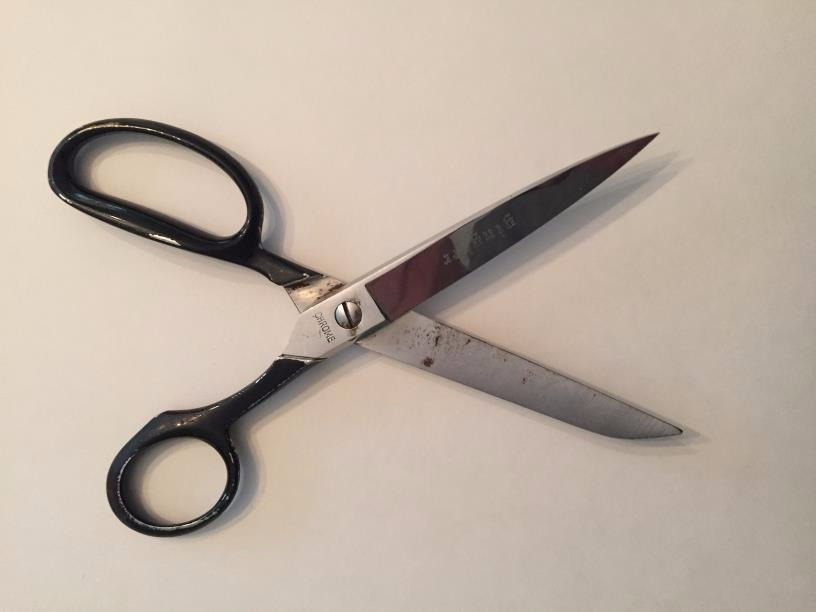scissor: (29, 69, 729, 563)
